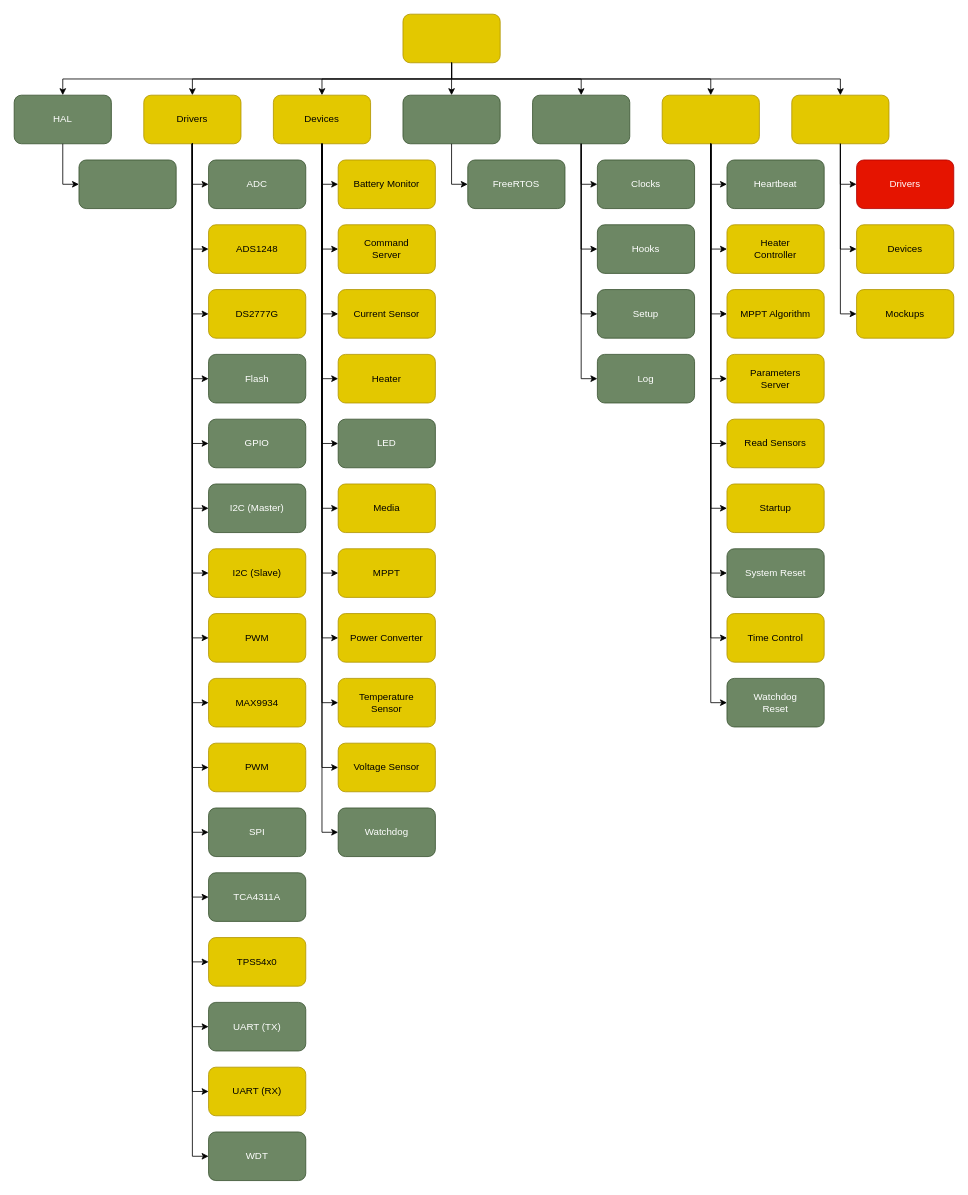
The diagram is 968 pixels wide and 1195 high, and some of its shapes have lost their labels. Each missing label, with the centre of its shape:
DriverLib: the point at 127,184
EPS 2.0 Firmware: the point at 451,38
RTOS: the point at 451,119
System: the point at 581,119
Tasks: the point at 710,119
Tests: the point at 840,119
